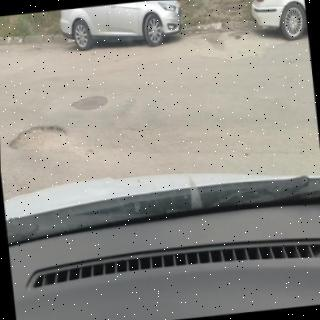pothole: (8, 125, 68, 152)
